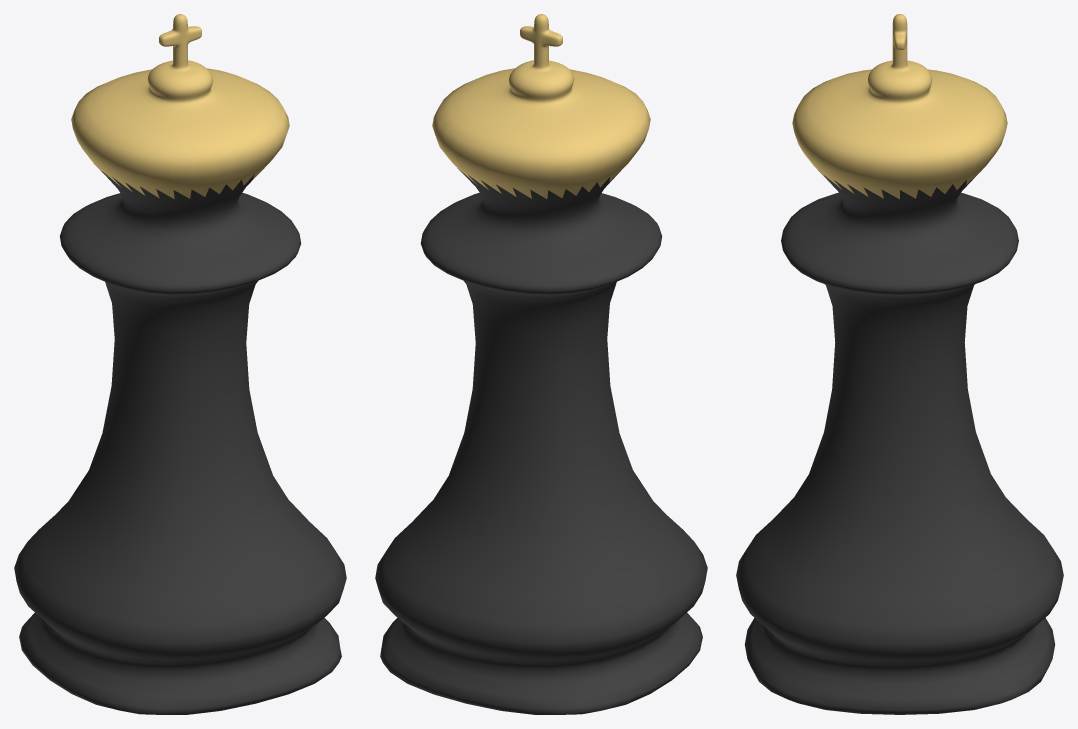
File: sade_k_b.glb
The picture shows the model from 3 angles, left to right: view 1: azimuth 30°, elevation 25°; view 2: azimuth 150°, elevation 25°; view 3: azimuth 270°, elevation 25°; orthographic projection.
Parts seen in each view (by area): view 1: x; view 2: x; view 3: x.
Boxes of the visible parts, x1,y1,x2,y2 form: x: (14,14,346,714); x: (375,14,707,714); x: (736,14,1063,714).
Size of the model in its own units: 0.4156 by 0.9 by 0.4156.
